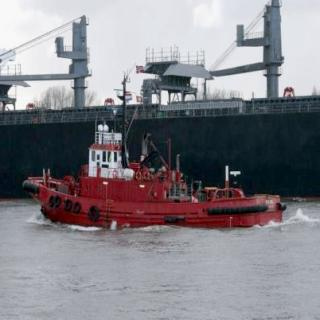Tug Boat: (23, 112, 291, 229)
